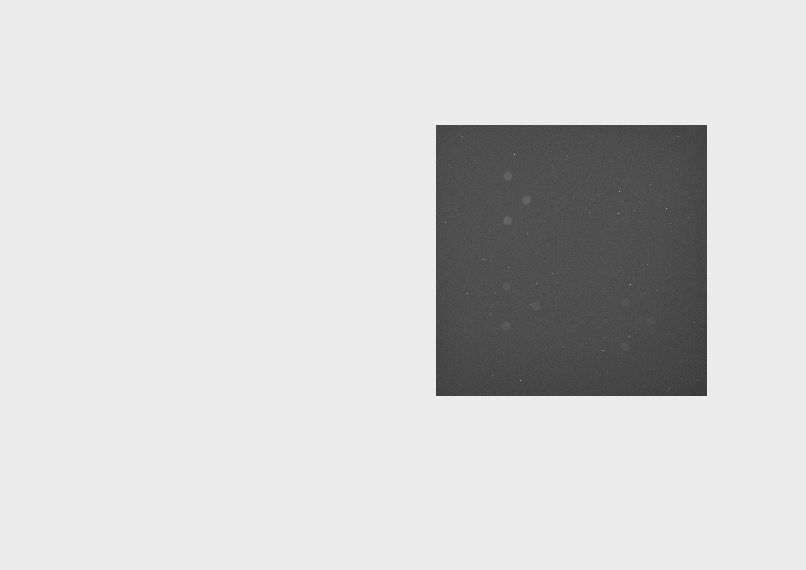cluster: (622, 174, 665, 224), (500, 281, 541, 331), (619, 296, 655, 350), (502, 169, 532, 225)
